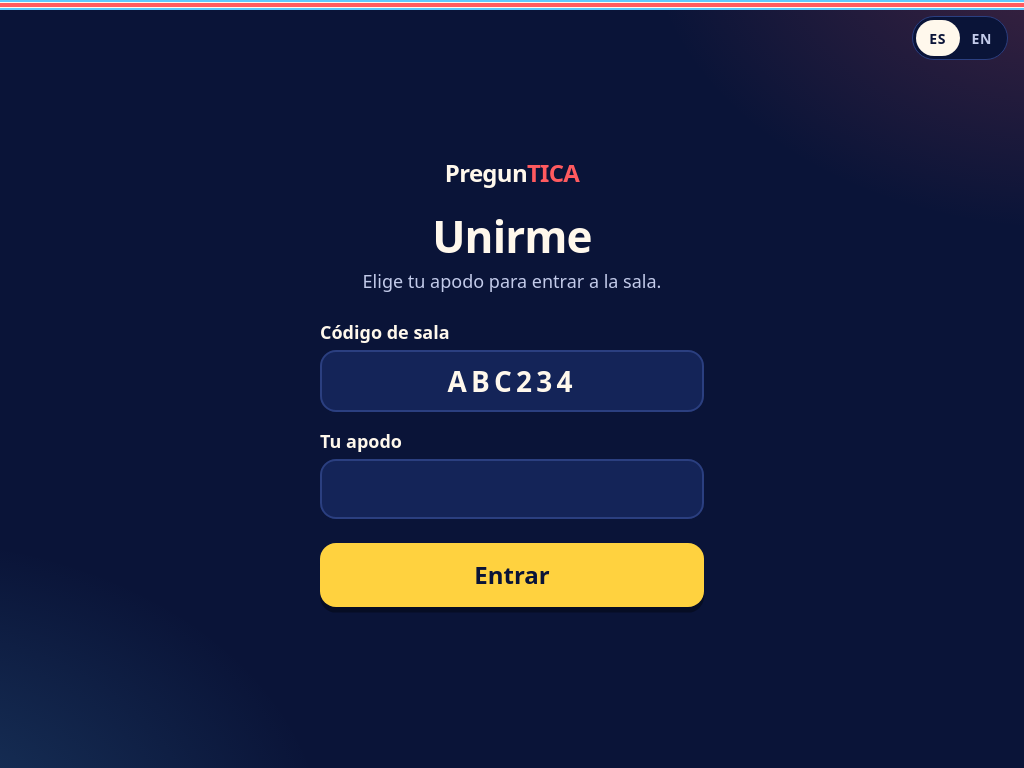
Test: join › a second submit waits for the server
Type "Tica" into the field labelled "Tu apodo".
click(512, 489); type("Tica")  # box [320,459,704,519]
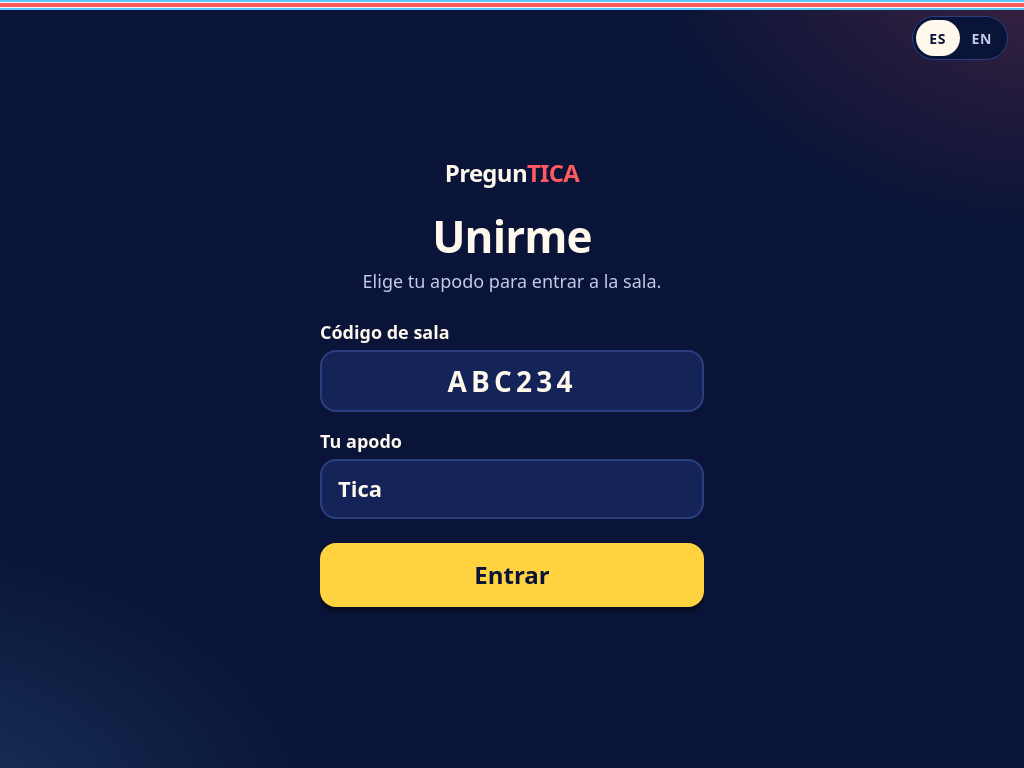
Click the button "Entrar".
click(512, 575)  # box [320,543,704,607]
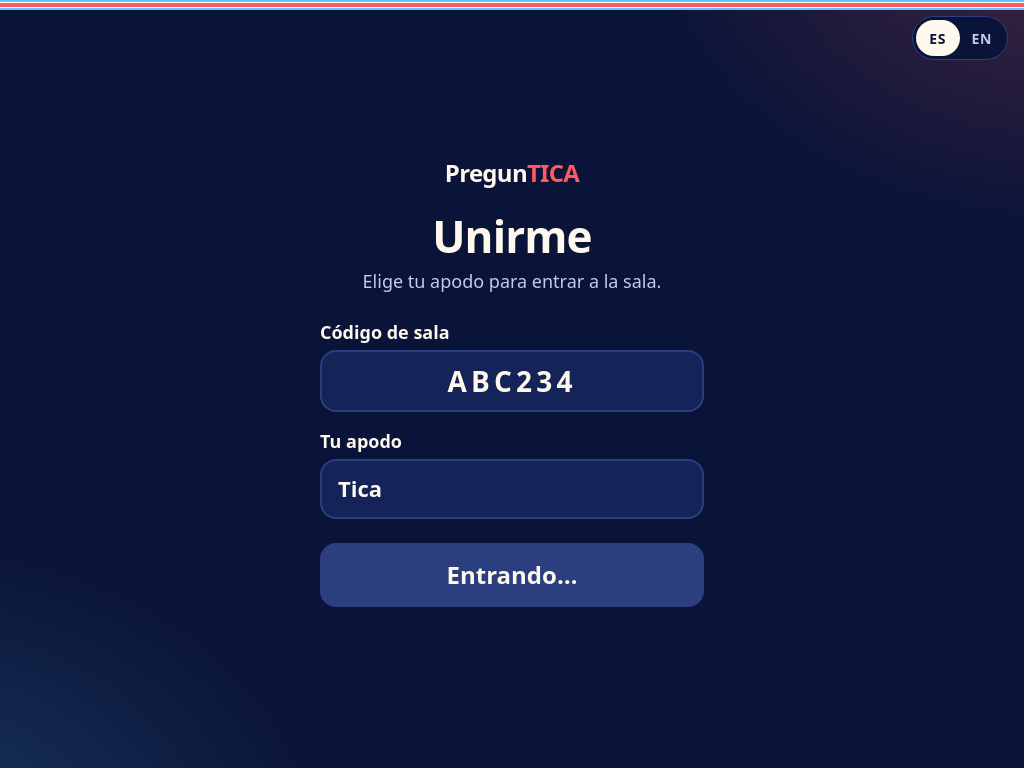
Expected: the button "Entrando…" is disabled, [320,543,704,607]
